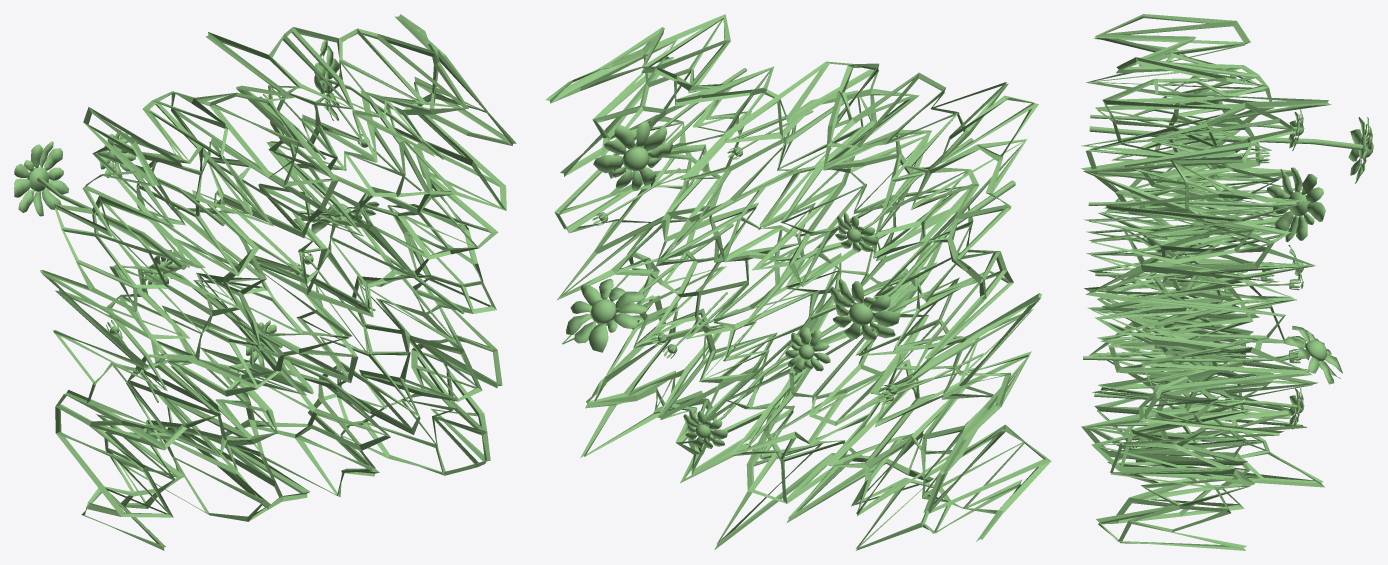
File: Grass_with_Flowers_One_Material (1).fbx
3 renders of one model, left to right at view 1: azimuth 30°, elevation 25°; view 2: azimuth 150°, elevation 25°; view 3: azimuth 270°, elevation 25°, orthographic. The views are drawn at different scales.
Parts seen in each view (by area): view 1: Grass_with_Flowers; view 2: Grass_with_Flowers; view 3: Grass_with_Flowers.
Part boxes in pixels (<box>): Grass_with_Flowers: <box>14,14,516,550</box>; Grass_with_Flowers: <box>545,14,1051,550</box>; Grass_with_Flowers: <box>1081,14,1373,550</box>.
Size of the model in its own units: 65.11 by 65.54 by 44.8.
